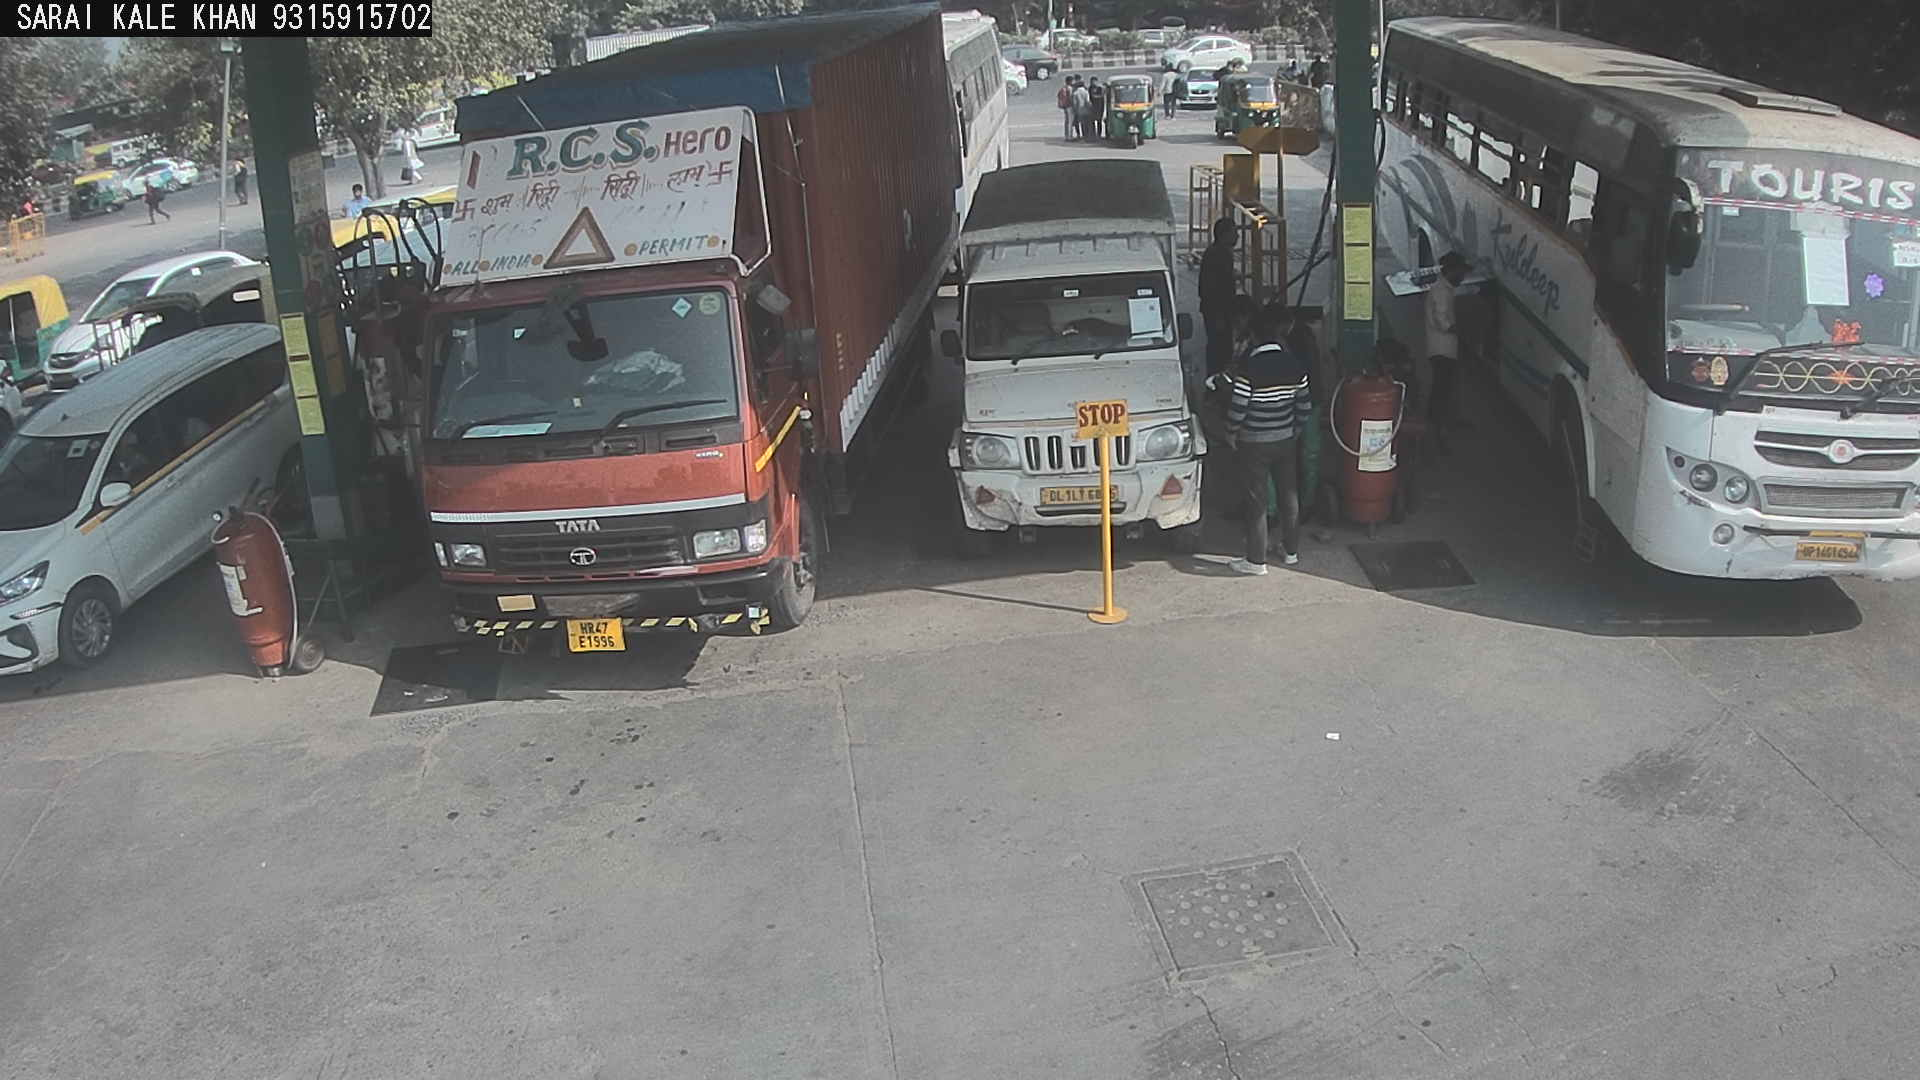Auto: (95, 252, 284, 378), (0, 260, 78, 423), (1056, 62, 1167, 152), (1199, 65, 1300, 158), (309, 203, 411, 286), (380, 171, 465, 251)
Car: (1, 311, 334, 700), (28, 241, 261, 406), (328, 208, 468, 450), (1153, 22, 1259, 105), (357, 177, 463, 248), (1, 340, 46, 460)
HMV: (388, 0, 986, 678), (1365, 0, 1917, 634), (923, 133, 1242, 591), (920, 0, 1027, 295)
Others: (1211, 285, 1342, 546)
Others Other: (1072, 389, 1139, 629)
